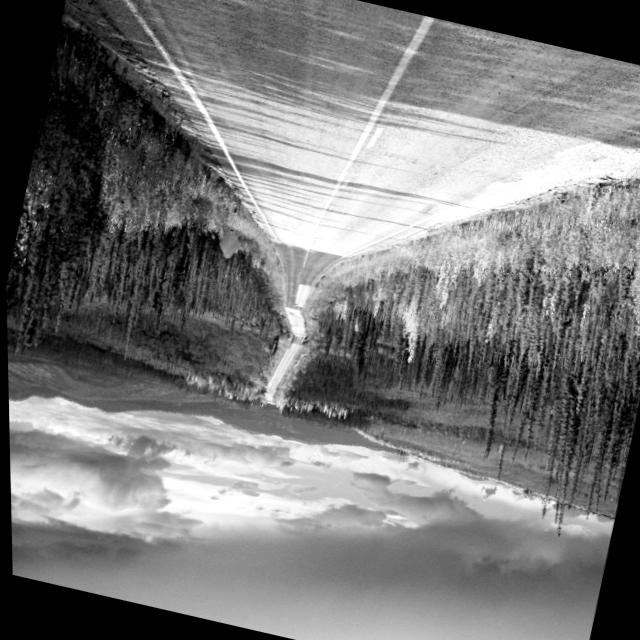cleat: (62, 0, 640, 536)
